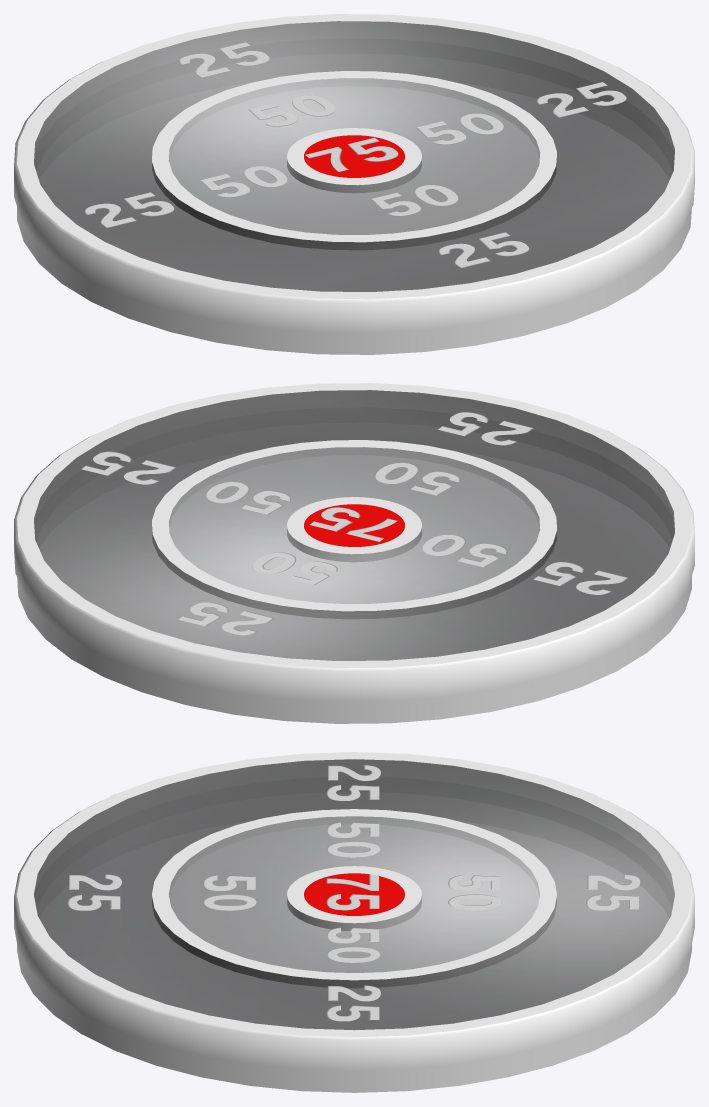
Rendered from glf_mato__glf_mato_C.glb.
3 views of the same model, one above another, from view 1: azimuth 30°, elevation 25°; view 2: azimuth 150°, elevation 25°; view 3: azimuth 270°, elevation 25° (orthographic).
Parts seen in each view (by area): view 1: polygon4, polygon2, polygon5, polygon6, polygon3, polygon1; view 2: polygon4, polygon2, polygon5, polygon6, polygon3, polygon1; view 3: polygon4, polygon2, polygon5, polygon6, polygon3, polygon1.
Boxes of the visible parts, left/top/right/bottom form: polygon4: left=34, top=21, right=674, bottom=291; polygon2: left=14, top=14, right=694, bottom=332; polygon5: left=168, top=78, right=539, bottom=234; polygon6: left=17, top=207, right=691, bottom=354; polygon3: left=84, top=42, right=626, bottom=268; polygon1: left=152, top=128, right=556, bottom=249; polygon4: left=34, top=390, right=674, bottom=660; polygon2: left=14, top=383, right=694, bottom=701; polygon5: left=169, top=447, right=540, bottom=603; polygon6: left=17, top=576, right=691, bottom=723; polygon3: left=81, top=412, right=628, bottom=635; polygon1: left=152, top=497, right=556, bottom=618; polygon4: left=34, top=759, right=674, bottom=1030; polygon2: left=14, top=752, right=694, bottom=1070; polygon5: left=169, top=816, right=539, bottom=972; polygon6: left=17, top=944, right=691, bottom=1092; polygon3: left=67, top=765, right=640, bottom=1021; polygon1: left=152, top=866, right=556, bottom=987.
Size of the model in its own units: 461 by 43.1 by 461.
6 materials, 4 textured.
